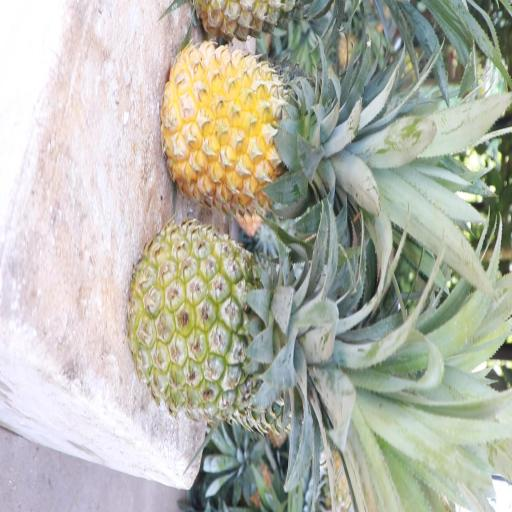------------------------------: (131, 228, 323, 415)
Pineapple - v8 v1: (164, 43, 330, 204)
